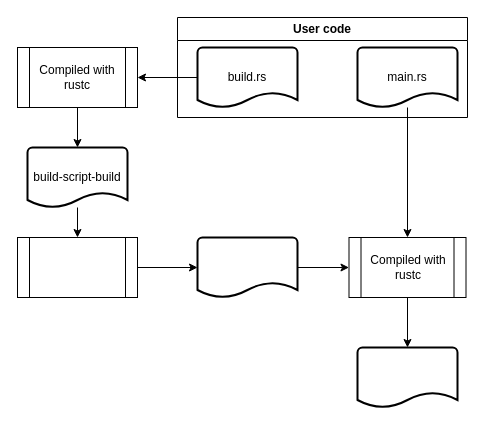
The diagram is 485 pixels wide and 426 high, and some of its shapes have lost their labels. The centre of each missing label's shape, as x and y in pixels:
combinators.rs: the point at 247,267
Execute to produce: the point at 77,267
Final executable: the point at 407,377
